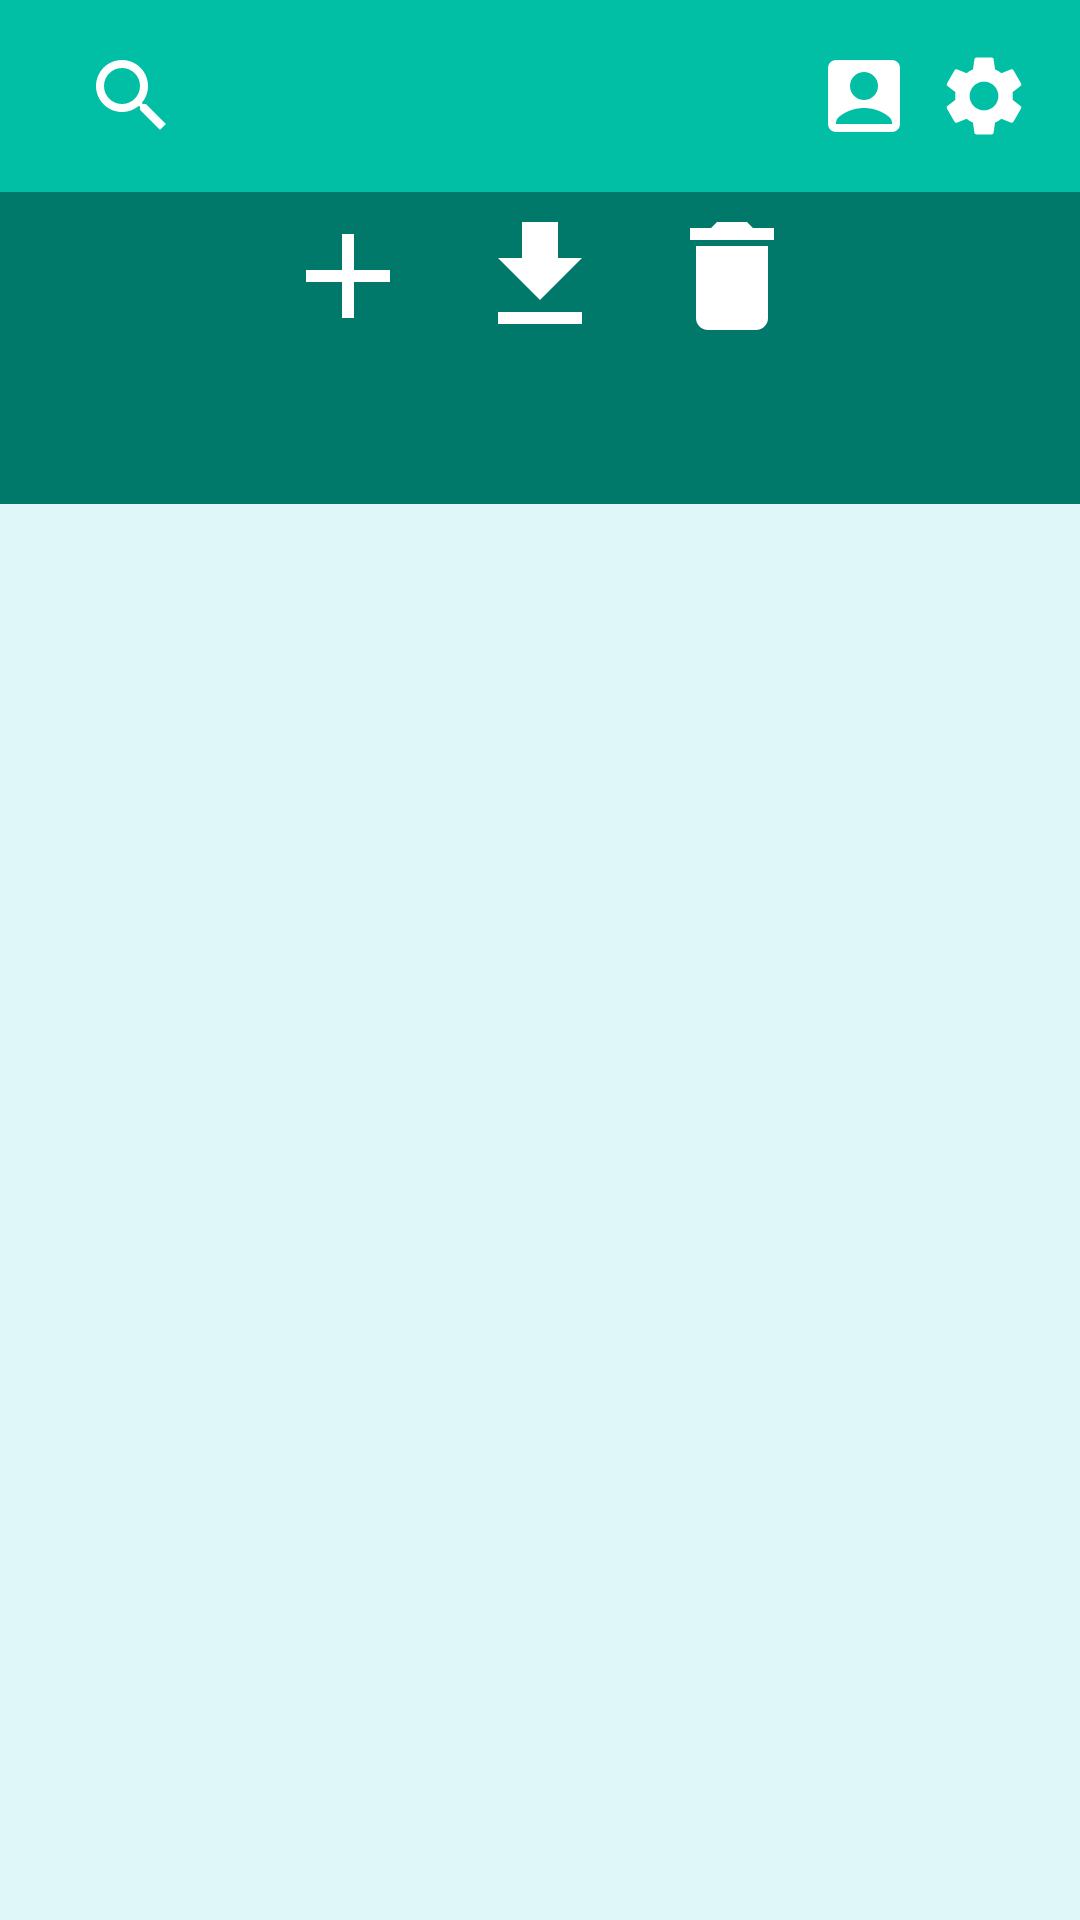

Where icons sit on this 1080*1920 app screen, as (x1, y1, x2, y2):
Add: (306, 234, 390, 318)
Load: (498, 222, 582, 324)
Settings: (946, 57, 1022, 135)
User Info: (828, 60, 900, 132)
